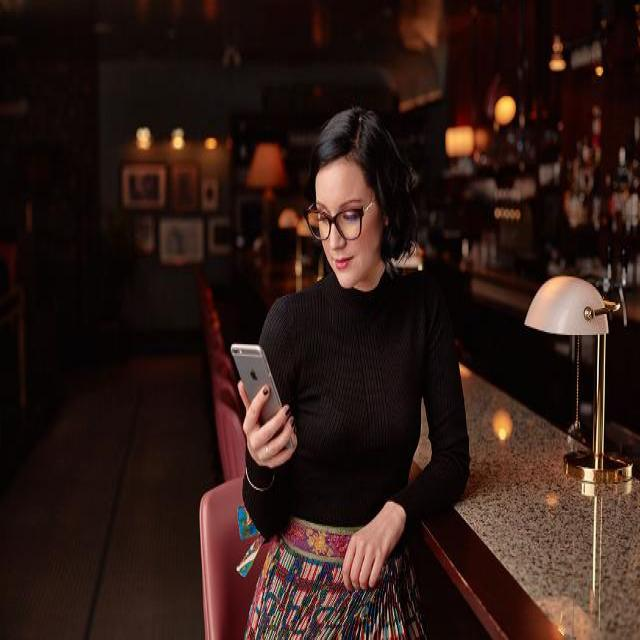glasses: (304, 201, 376, 241)
